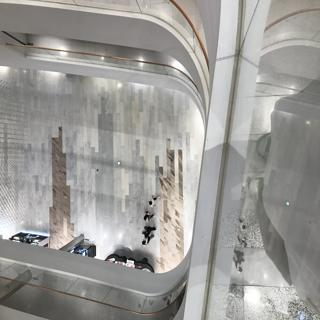person: (146, 190, 163, 210), (140, 230, 156, 249)
